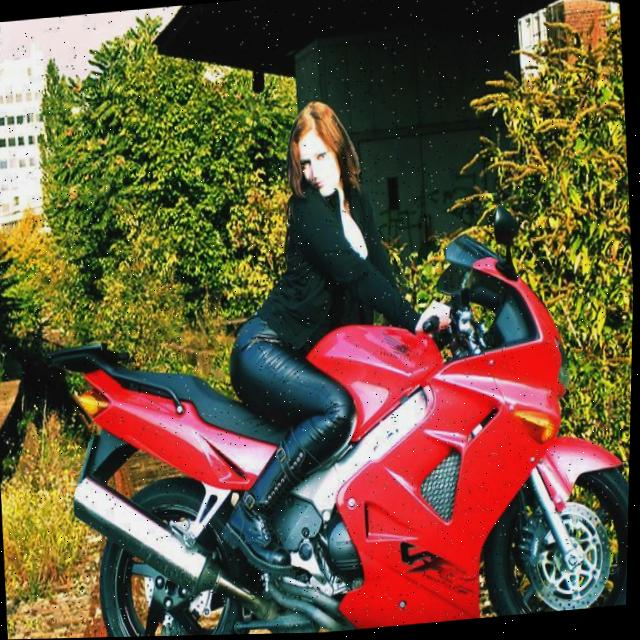motorcycle: (46, 224, 635, 639)
